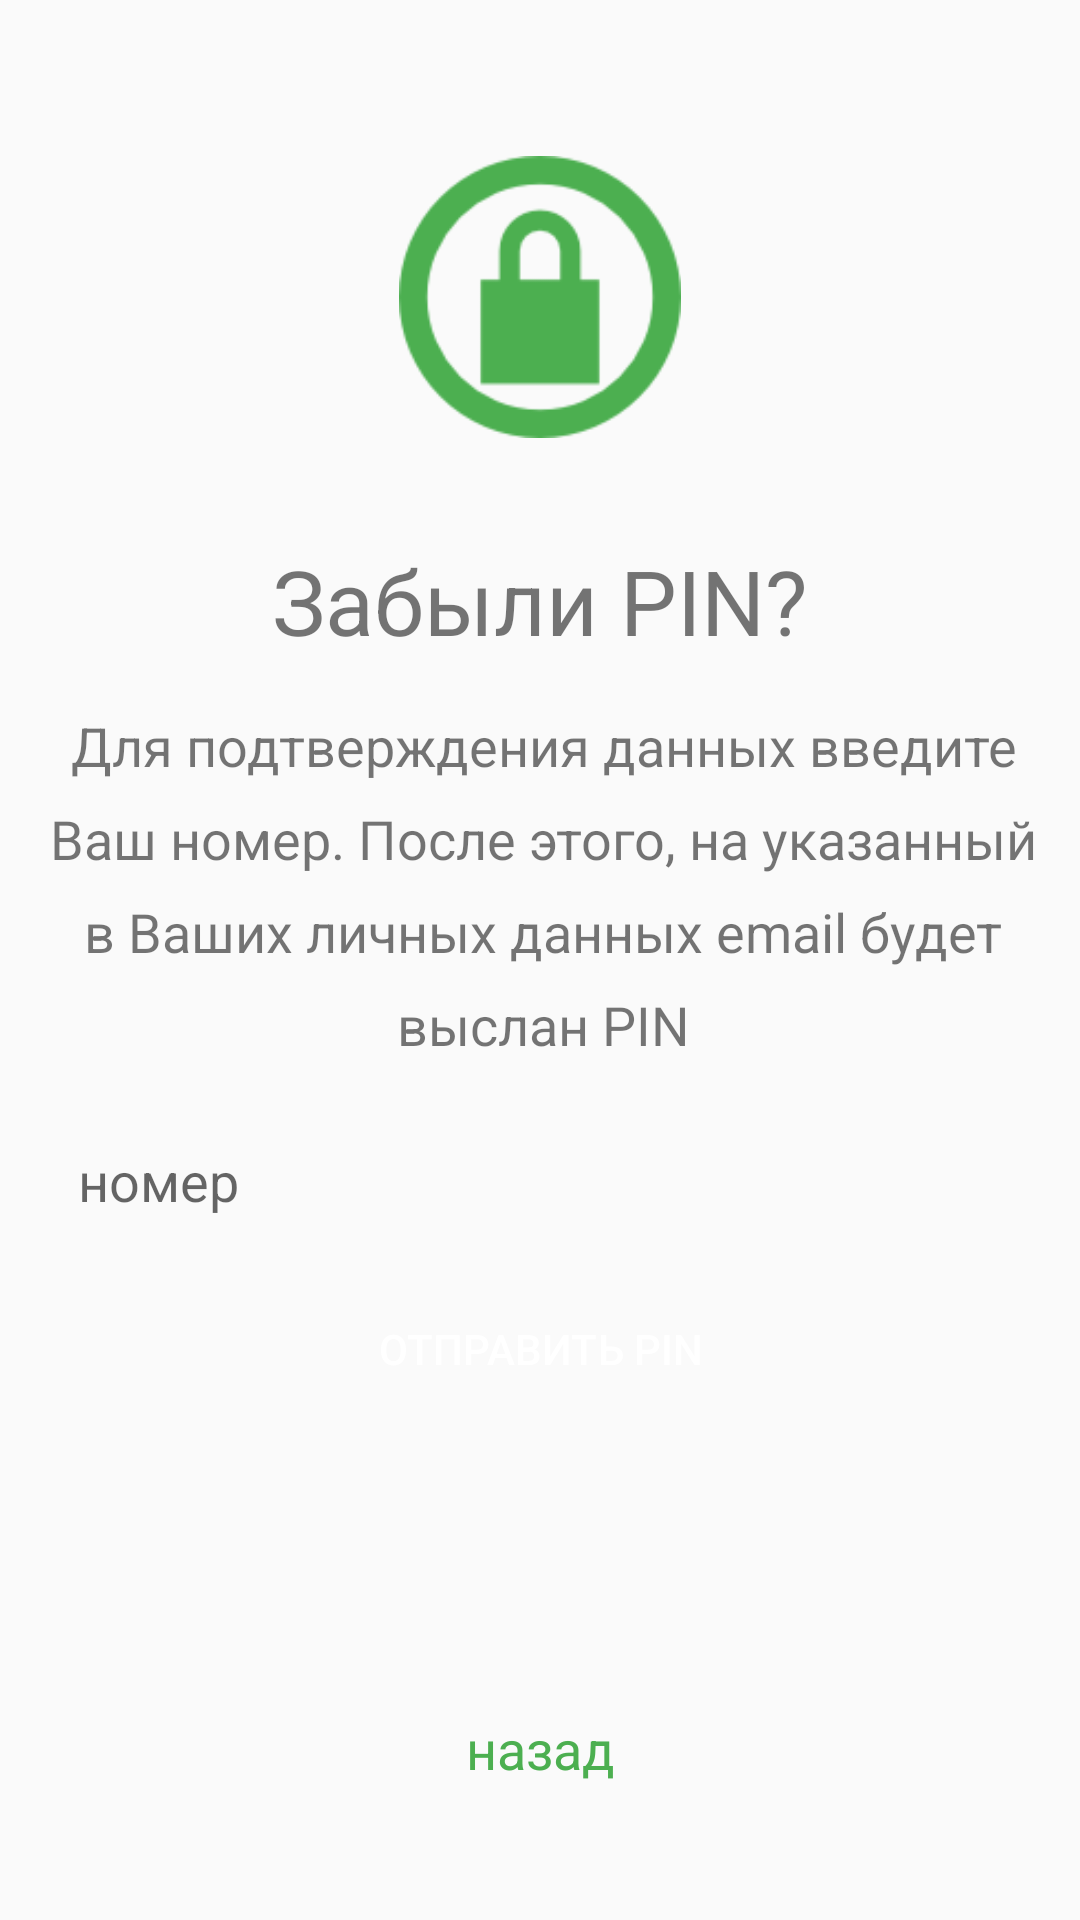

Icon bounding boxes for this 1080*1920 phone screenshot, format (x1, y1, x2, y2):
clockpadlock: (399, 156, 681, 438)
